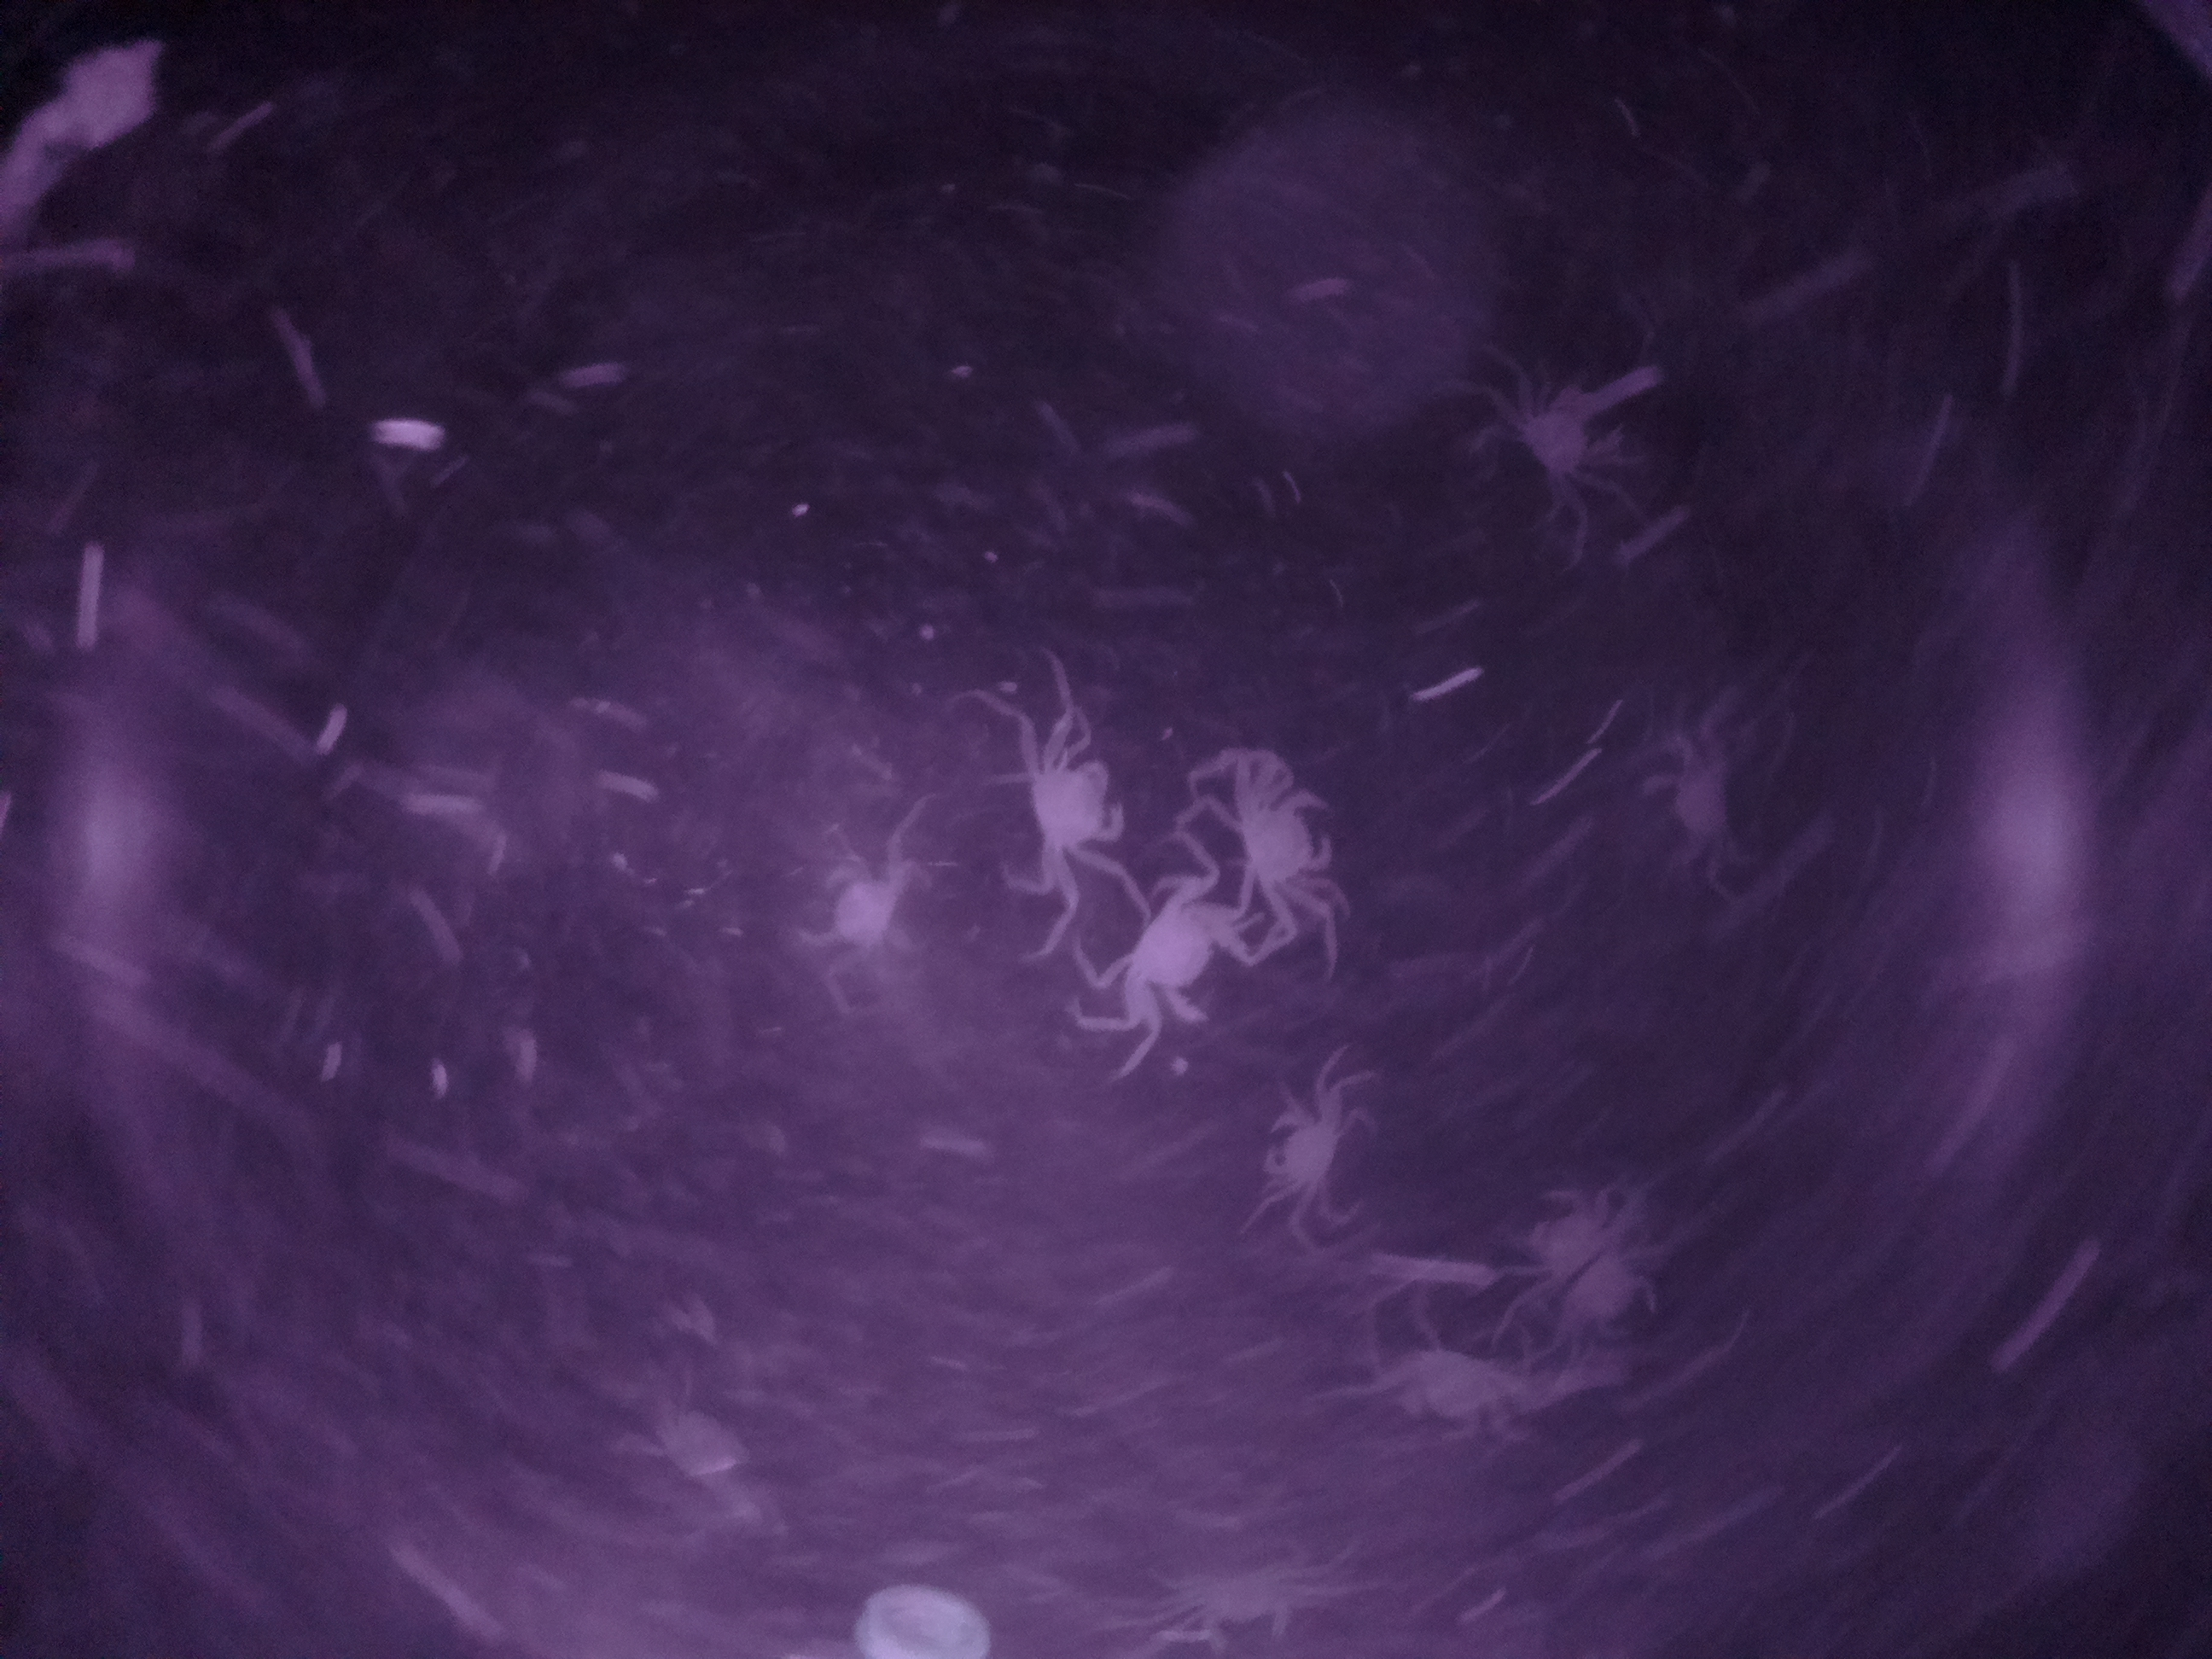Crab: (1015, 701, 1160, 894), (1181, 767, 1362, 913), (1103, 864, 1249, 1040), (1233, 1086, 1372, 1225)
